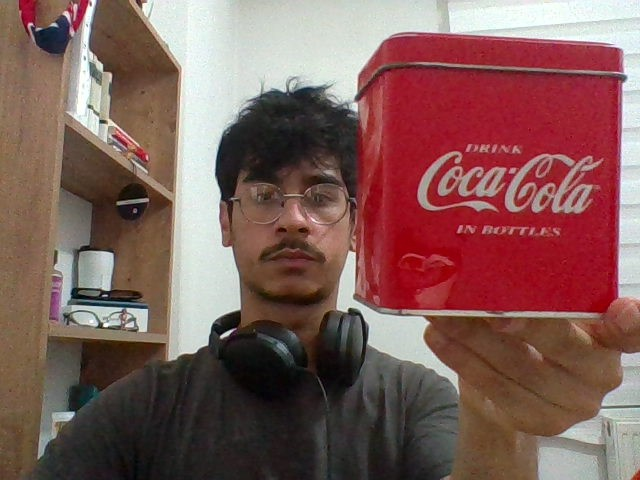CocaColaBox: (358, 40, 633, 315)
